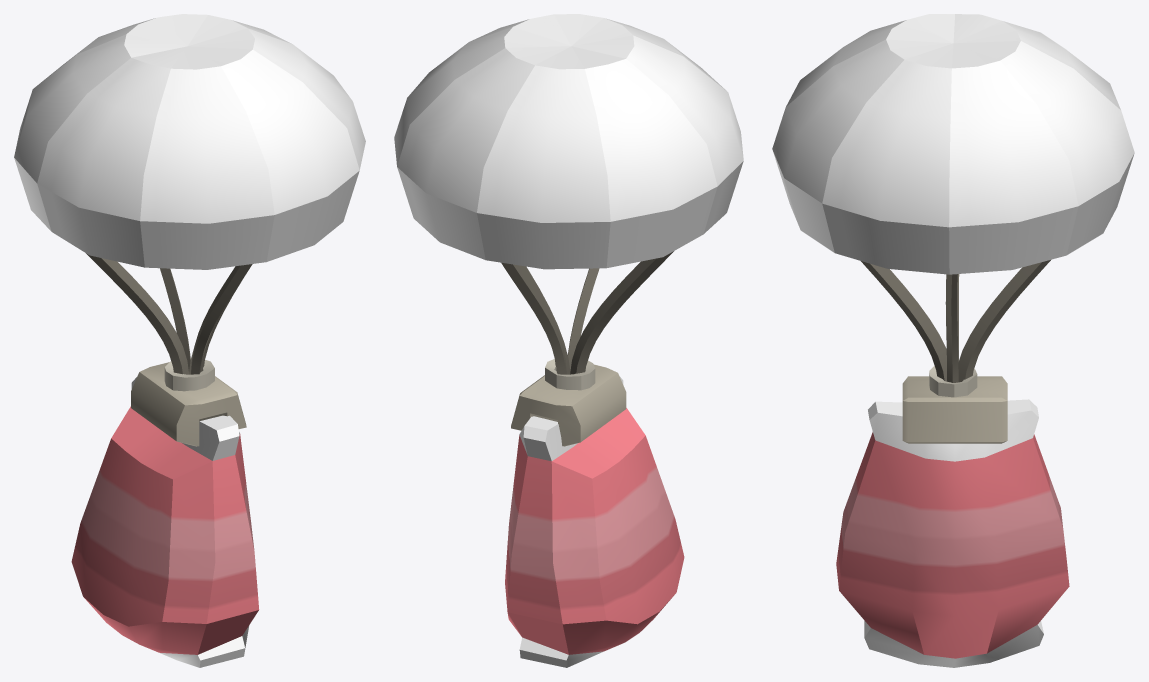
File: Parcel_MooseMinerals.fbx
3 renders of one model, left to right at view 1: azimuth 30°, elevation 25°; view 2: azimuth 150°, elevation 25°; view 3: azimuth 270°, elevation 25°, orthographic. The views are drawn at different scales.
Parts seen in each view (by area): view 1: Parcel_MooseMinerals; view 2: Parcel_MooseMinerals; view 3: Parcel_MooseMinerals.
Boxes of the visible parts, box(x1,y1,x2,y2) form: Parcel_MooseMinerals: box(14, 14, 365, 667); Parcel_MooseMinerals: box(394, 14, 743, 667); Parcel_MooseMinerals: box(772, 14, 1134, 667).
Size of the model in its own units: 1.17 by 2.21 by 1.18.
